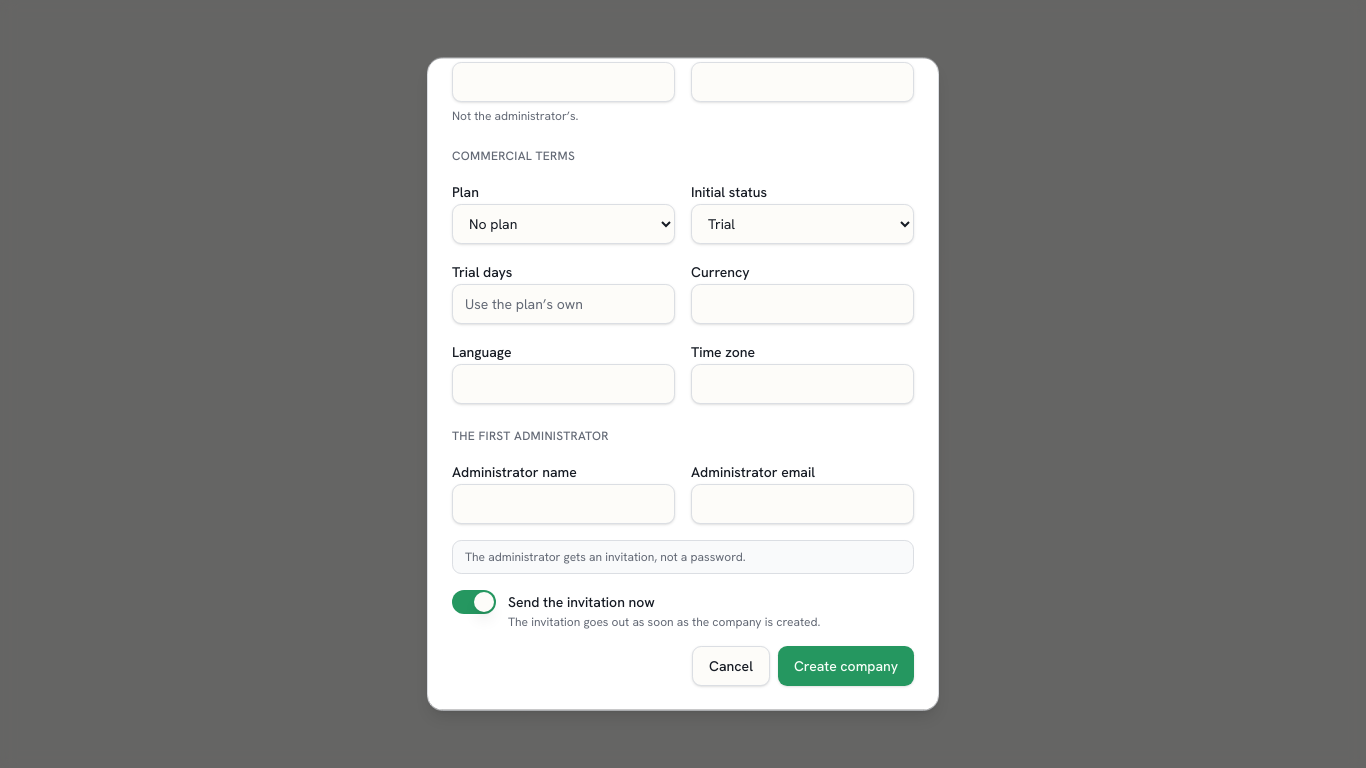
CreateTenantDialog › clears the complaint once the form is valid
(page scrolled)
Click the button "Create company". click: (846, 666)
box: [778,646,914,686]
(page scrolled)
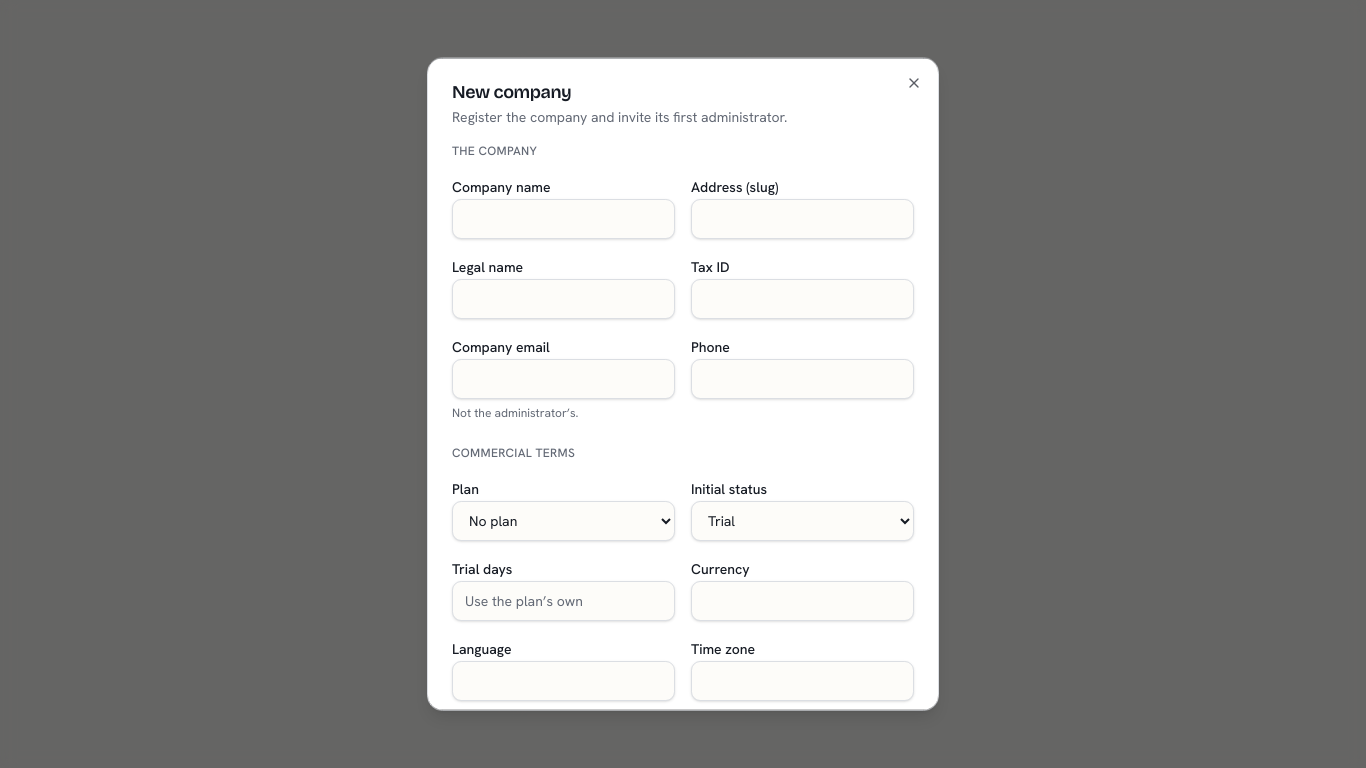
Type "Sirius Cybernetics" into the field labelled "Company name". click: (564, 219)
box: [452,199,675,239]
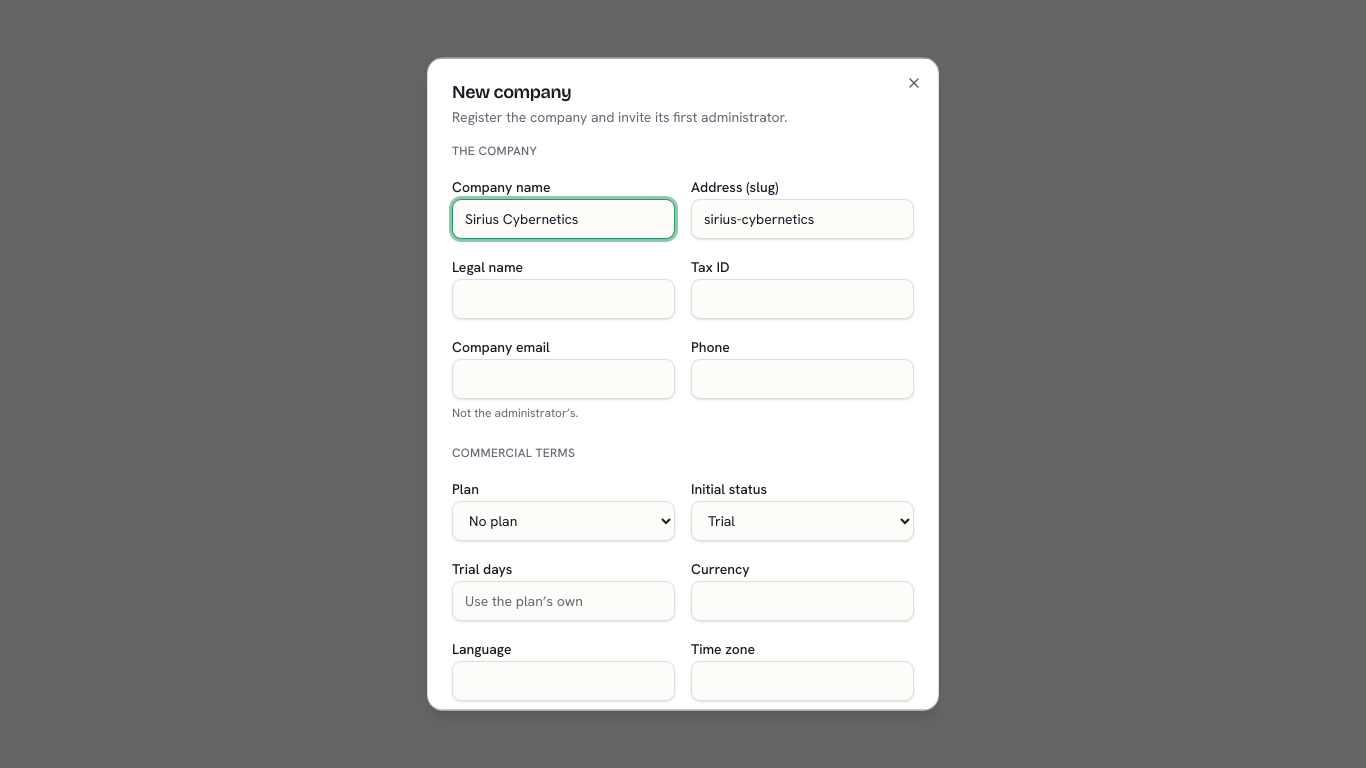
Type "contato@sirius.example" into the field labelled "Company email". click: (564, 379)
box: [452,359,675,399]
(page scrolled)
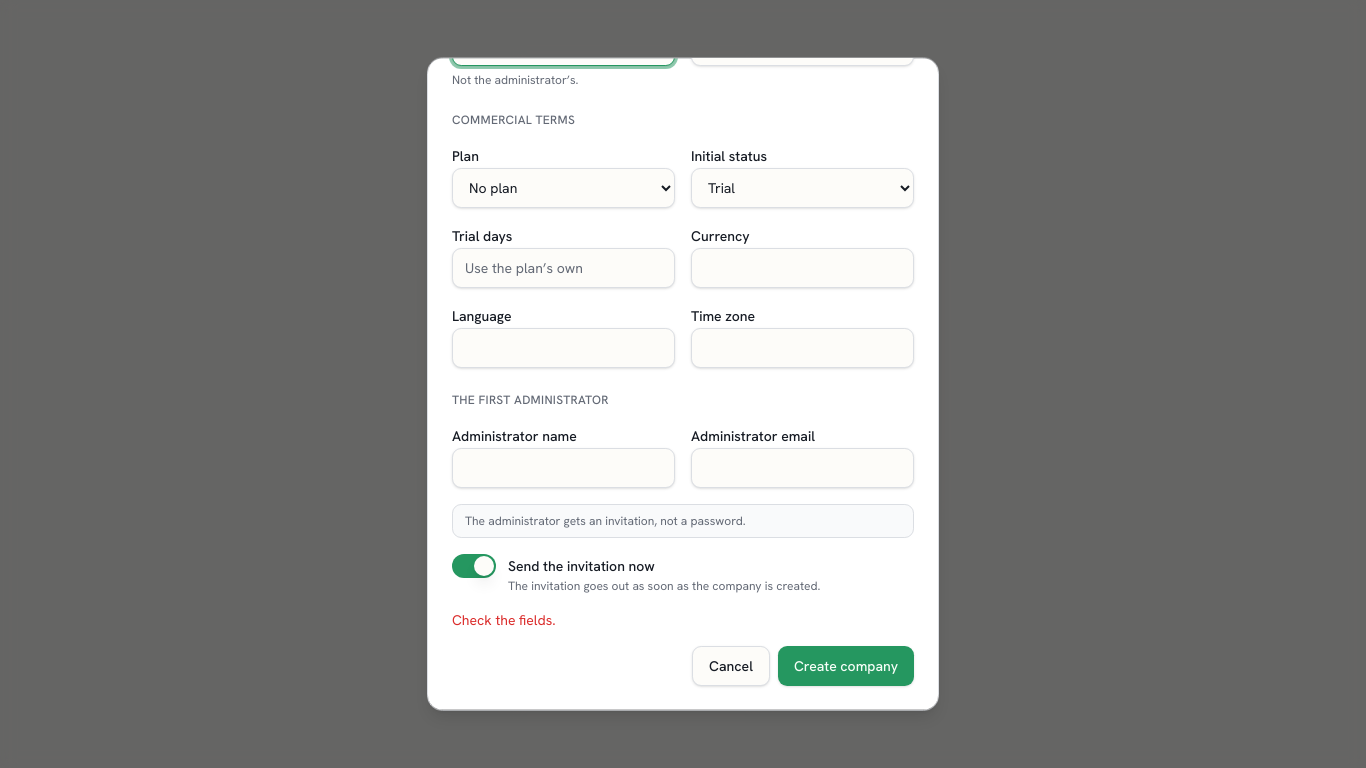
Type "Arthur Dent" into the field labelled "Administrator name". click: (564, 468)
box: [452,448,675,488]
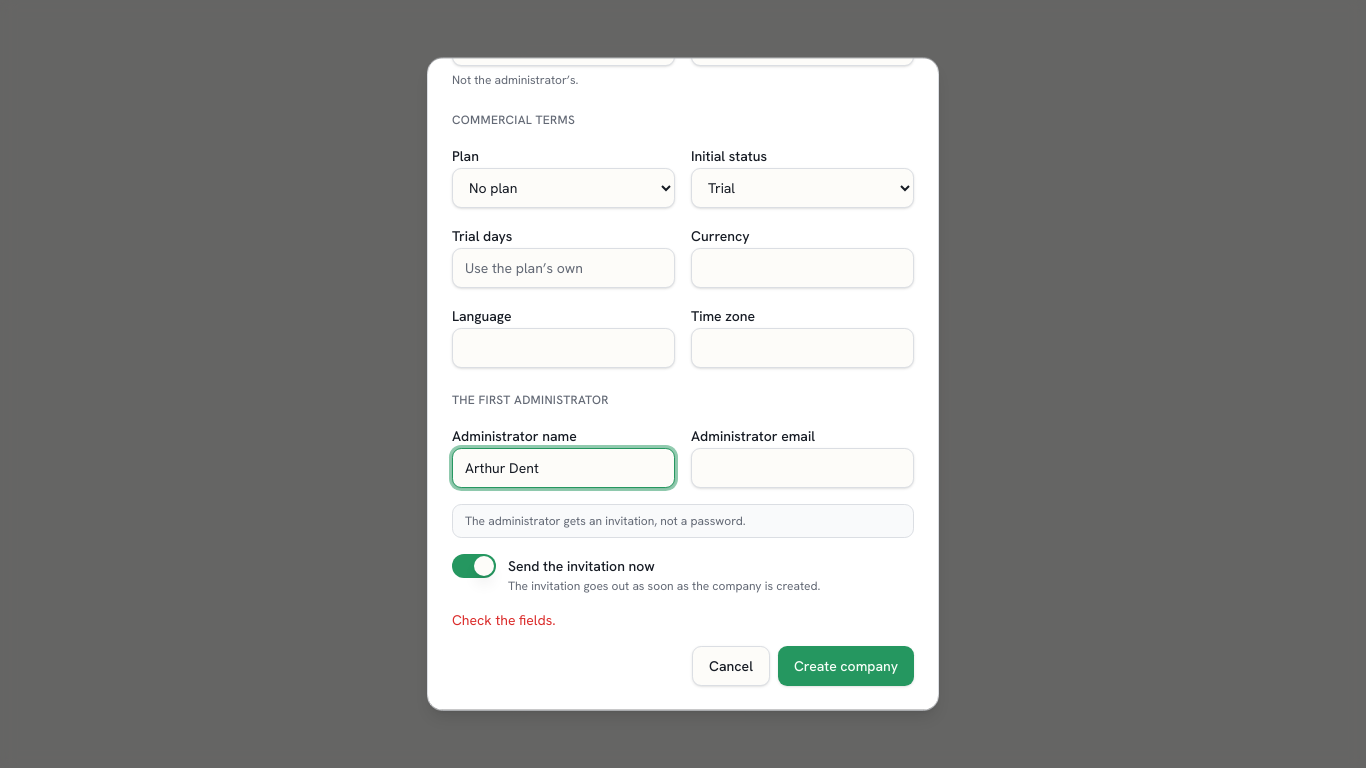
Type "arthur@sirius.example" into the field labelled "Administrator email". click: (802, 468)
box: [691,448,914,488]
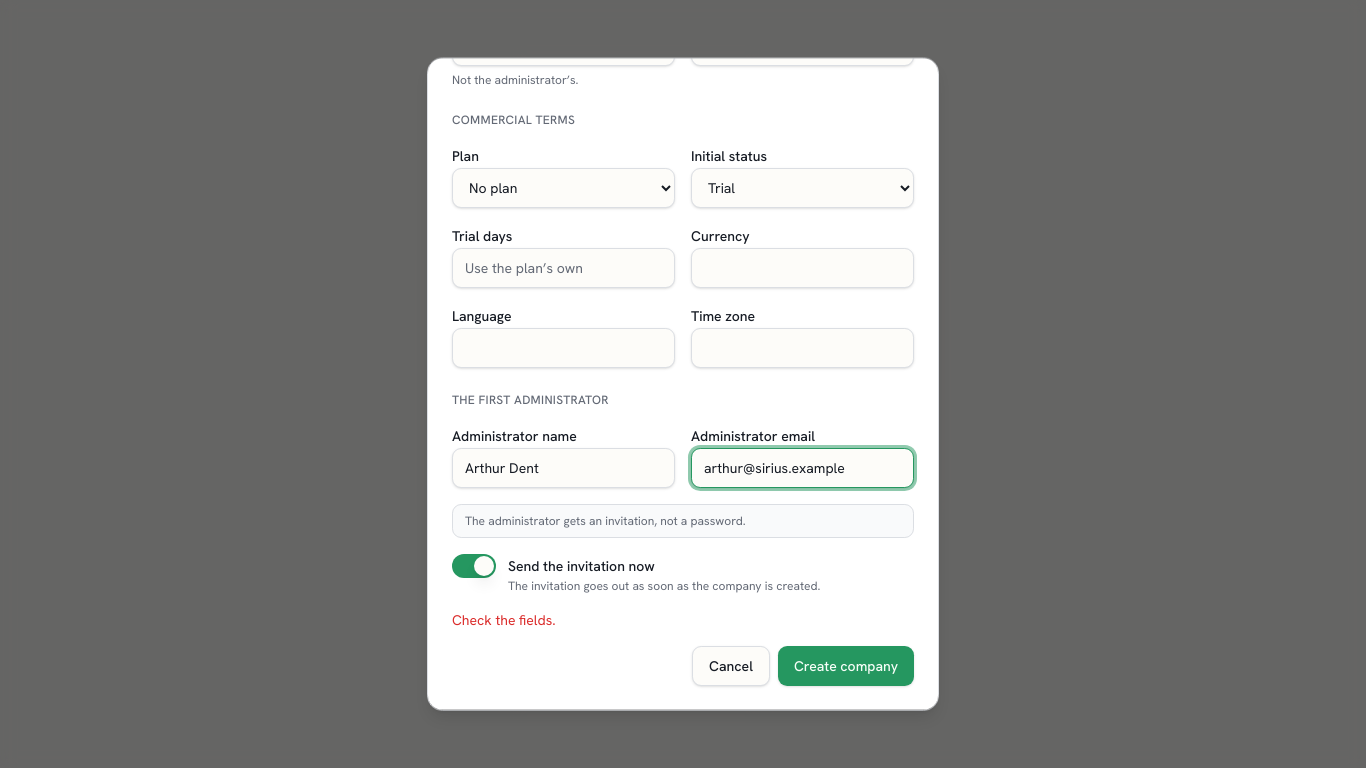
Click the button "Create company". click: (846, 666)
box: [778,646,914,686]
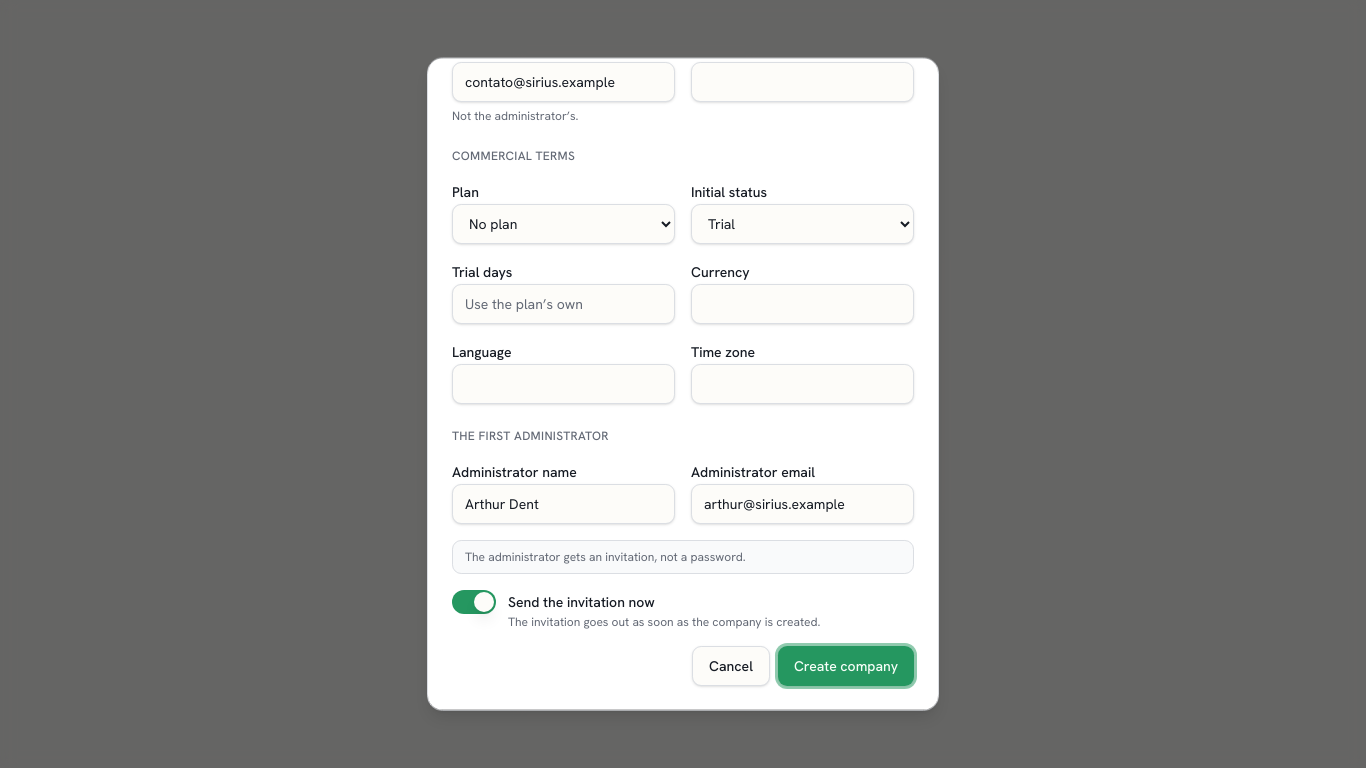
Check: the message "Check the fields." is gone
